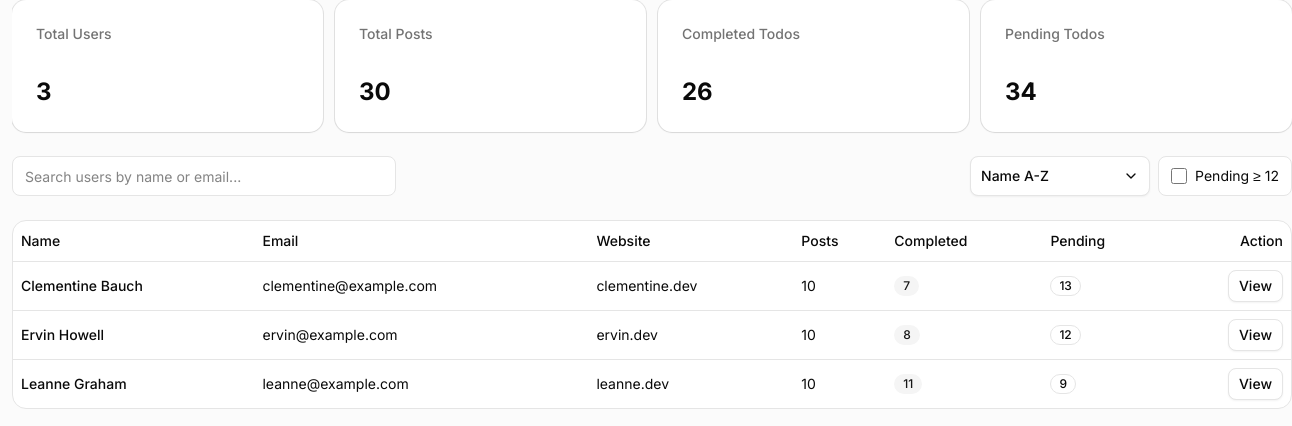
Test: UsersClient › shows empty state when no users match search
The width and height of the screenshot is (1292, 426).
In the field with placeholder "Search users by name or email...": (204, 176) [12,156,396,196], type "unknown user"
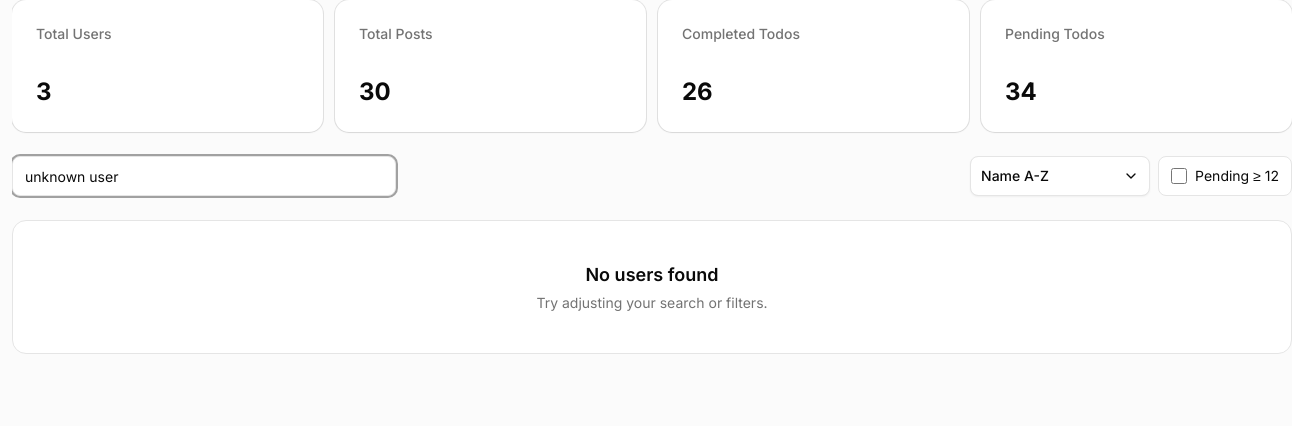
Result: the heading "No users found" is shown at [586,264,719,285]
Result: the text "Try adjusting your search or filters." is shown at [536,294,768,311]
